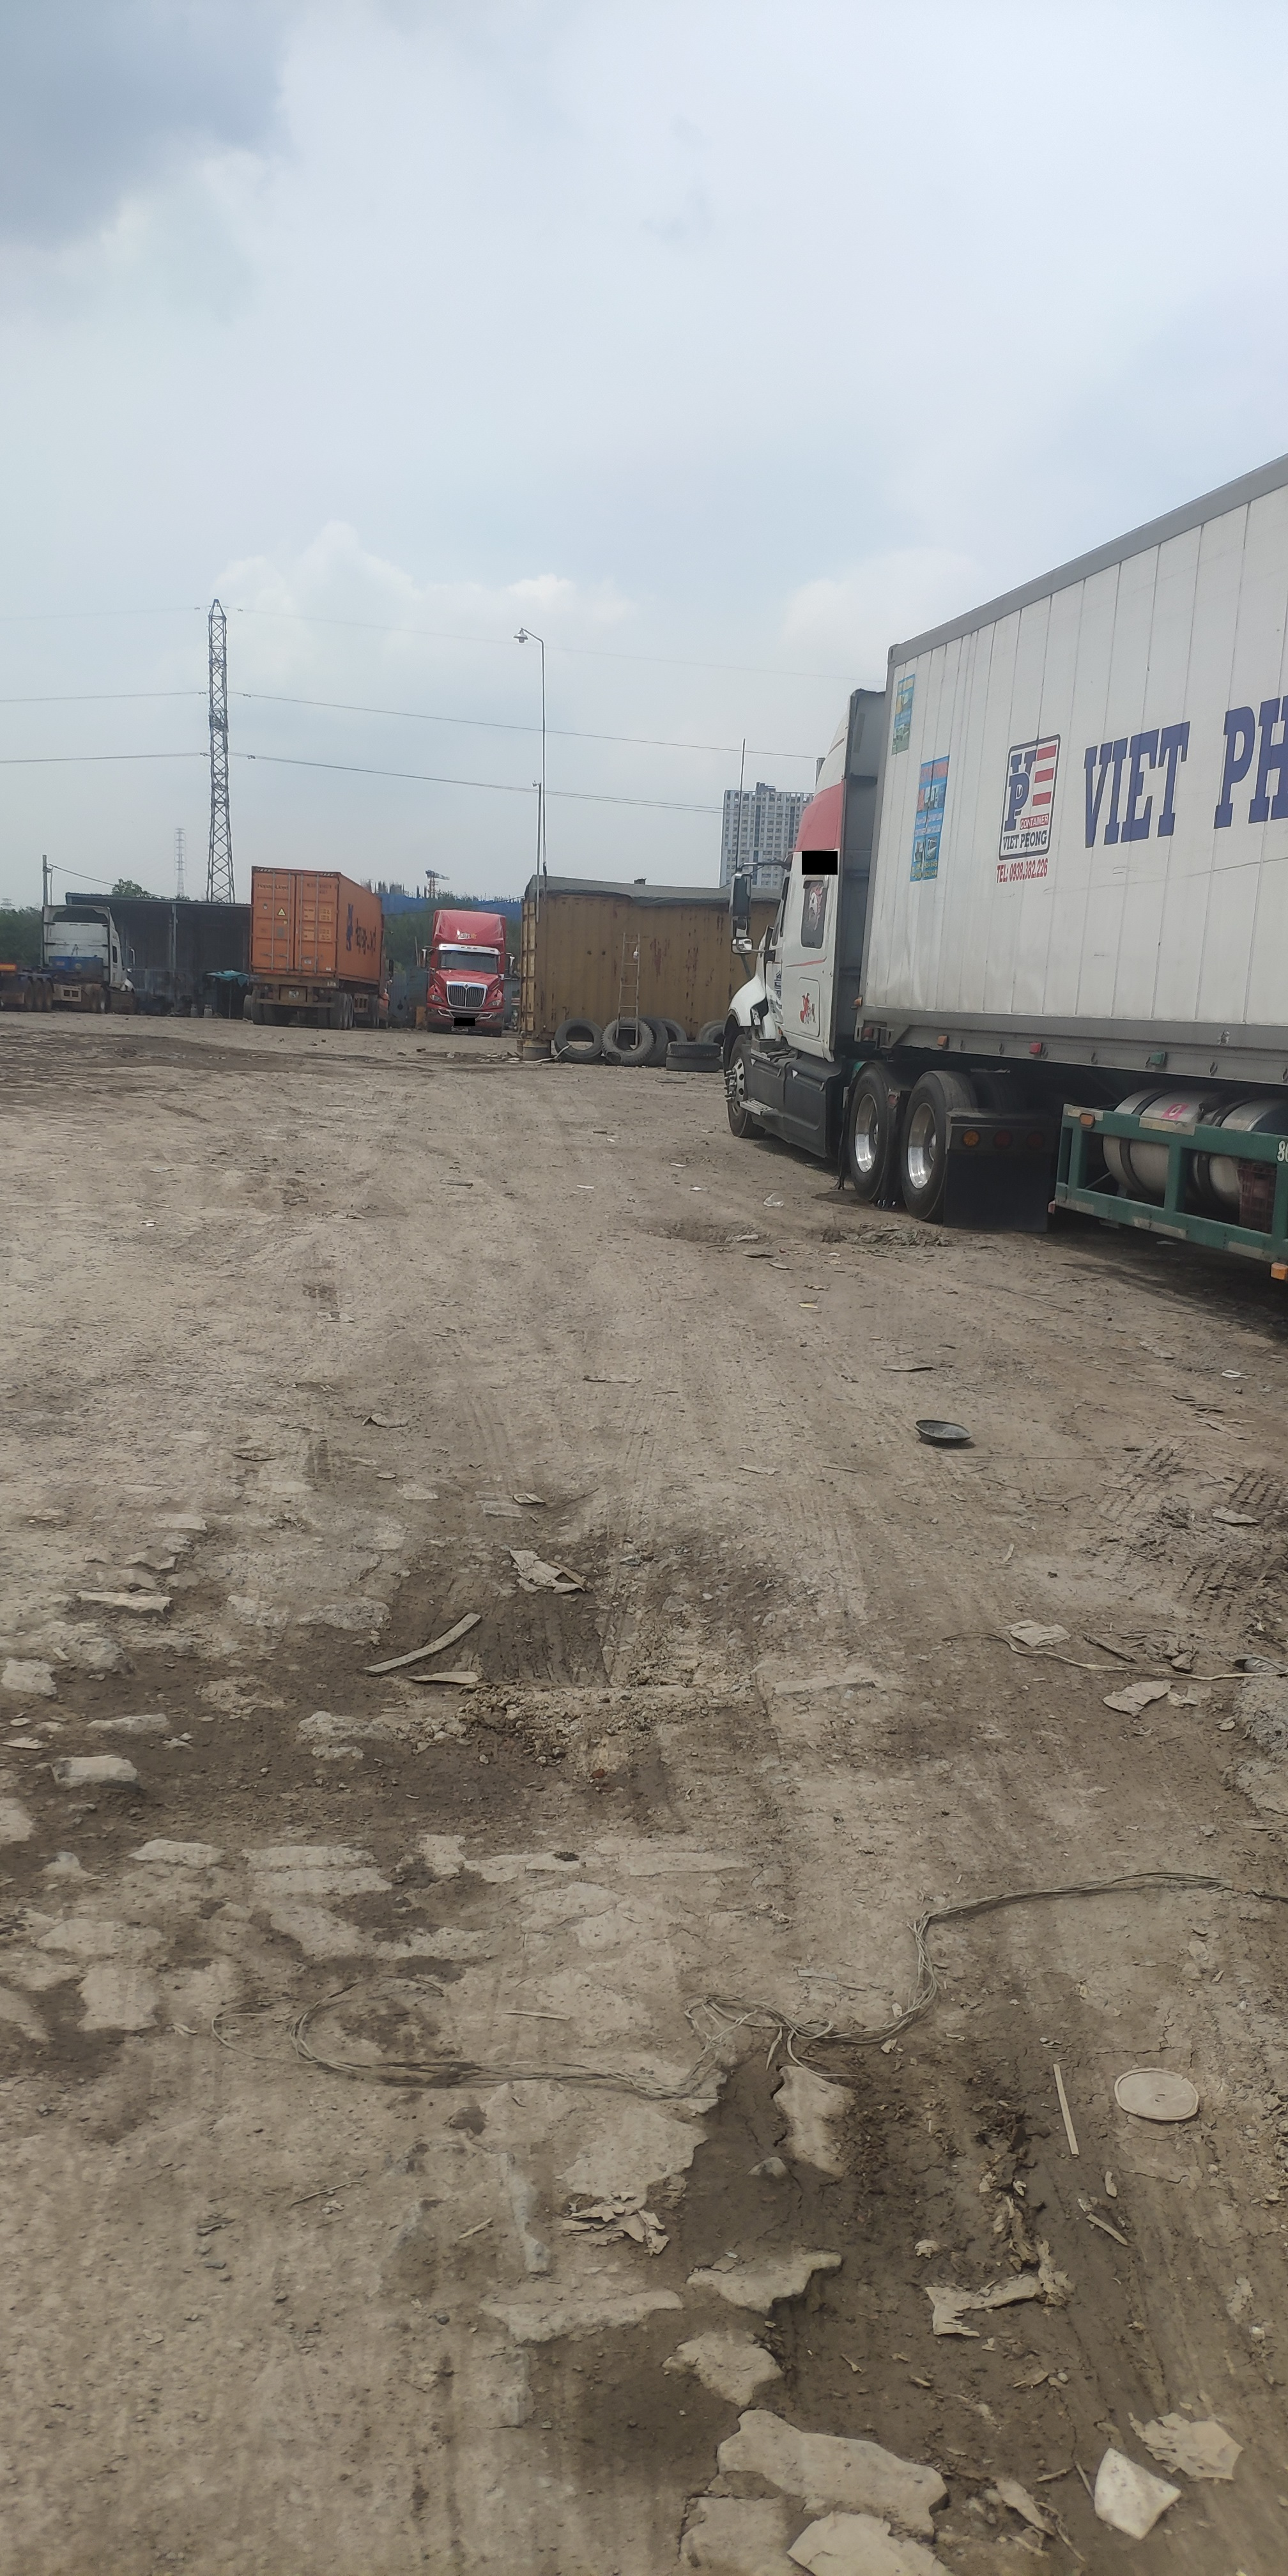hole: (700, 1978, 1258, 2545), (363, 1506, 812, 1725), (18, 1598, 322, 1866), (69, 1032, 269, 1074), (616, 1204, 764, 1253), (296, 1050, 384, 1065)
